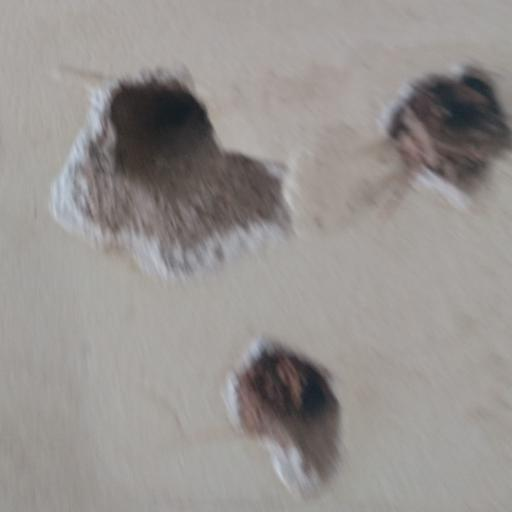spalling: (44, 42, 318, 291), (217, 314, 345, 503), (368, 57, 512, 218)
